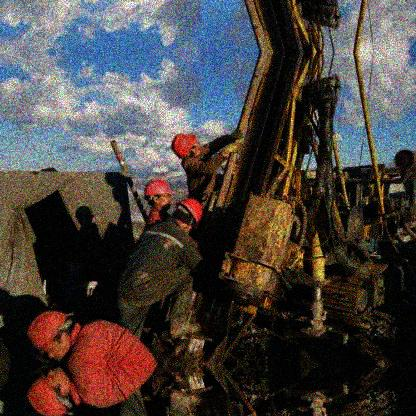helmet: (27, 310, 74, 362), (27, 363, 72, 416), (143, 179, 176, 210), (177, 196, 203, 233), (170, 133, 201, 162)
